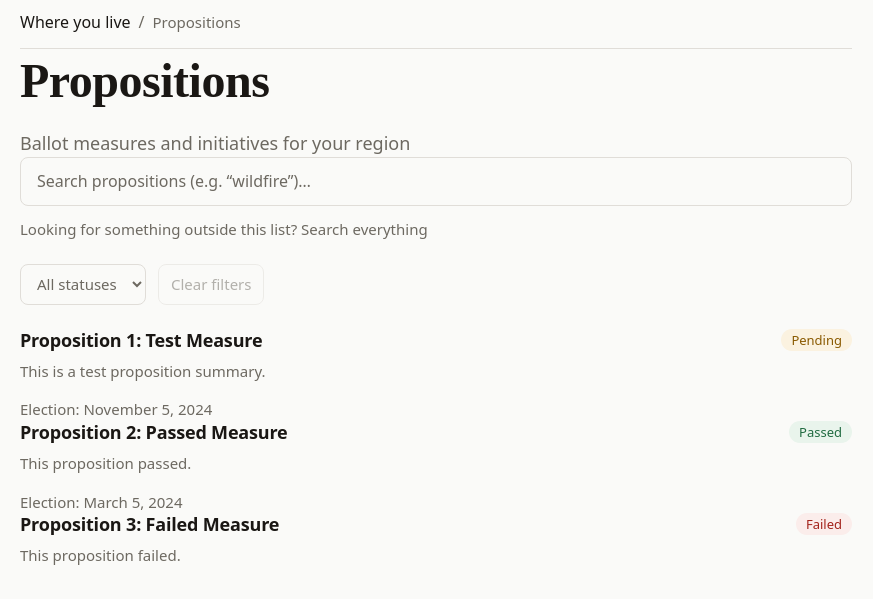
Test: PropositionsPage › search and filters (#1155) › clear filters resets the query, the selects and the input box
The image size is (873, 599).
Type "wildfire" into the search field labelled "Search propositions (e.g. “wildfire”)…".
click(436, 181); type("wildfire")  # box [20, 157, 852, 206]
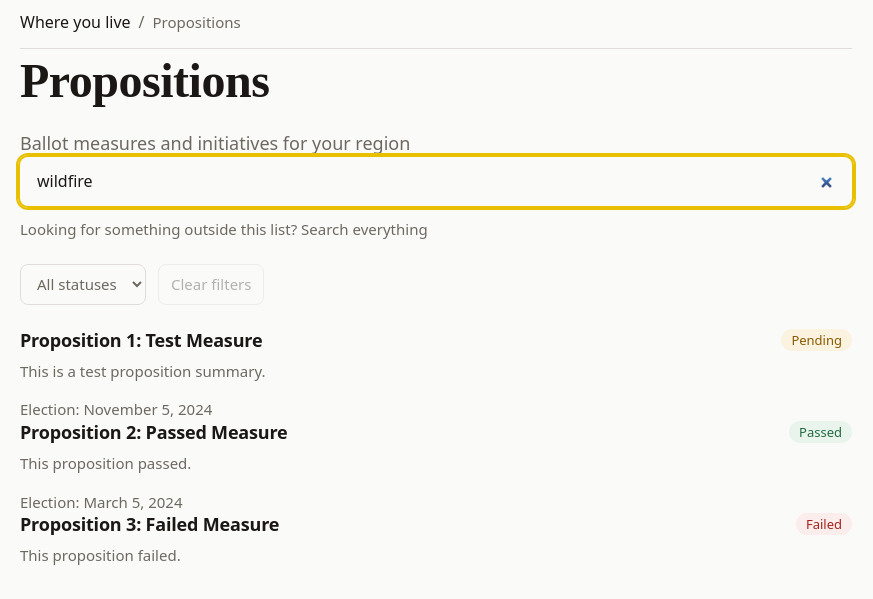
Select "Passed" in the dropdown named "filter by status" at (83, 284), box [20, 264, 146, 305]
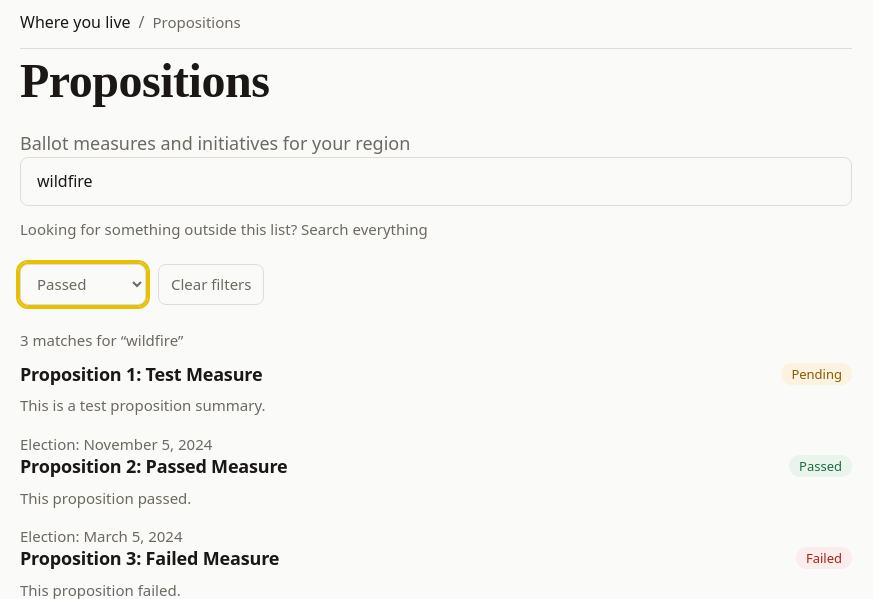
Click the button "Clear filters".
click(211, 284)  # box [158, 264, 264, 305]
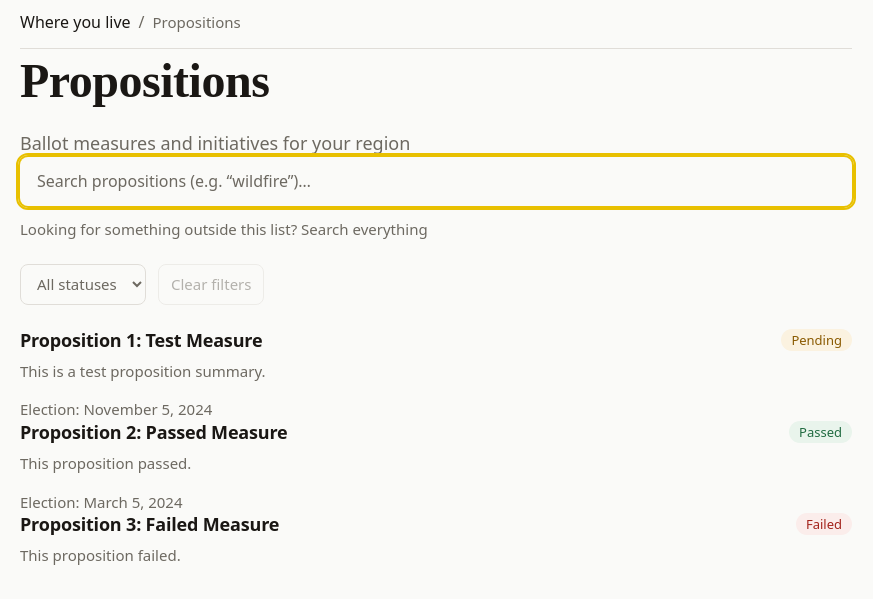
Expected: the search field labelled "Search propositions (e.g. “wildfire”)…" is empty, [20, 157, 852, 206]
